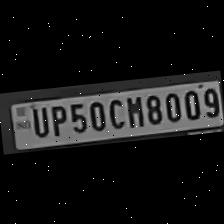0: (84, 97, 107, 132), (161, 88, 182, 123), (180, 86, 202, 119)
5: (65, 100, 88, 134)
8: (142, 90, 164, 126)
9: (198, 84, 220, 118)
C: (104, 94, 126, 130)
M: (122, 92, 144, 128)
P: (46, 101, 68, 136)
U: (28, 103, 50, 138)
